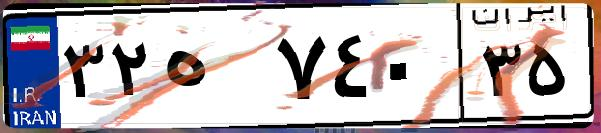0: (385, 28, 445, 110)
2: (110, 28, 158, 98)
3: (57, 26, 110, 100), (475, 38, 525, 113)
4: (330, 28, 385, 110)
5: (525, 38, 570, 115)
7: (270, 28, 330, 110)
ه: (158, 20, 270, 120)
